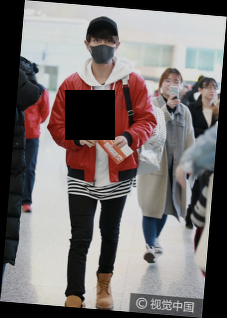with_mask: (89, 37, 117, 64)
without_mask: (163, 77, 180, 97), (202, 83, 219, 101)
